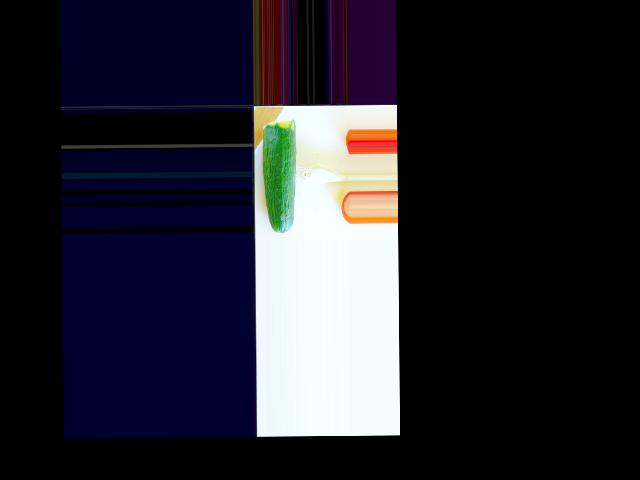cucumber: (261, 119, 296, 234)
